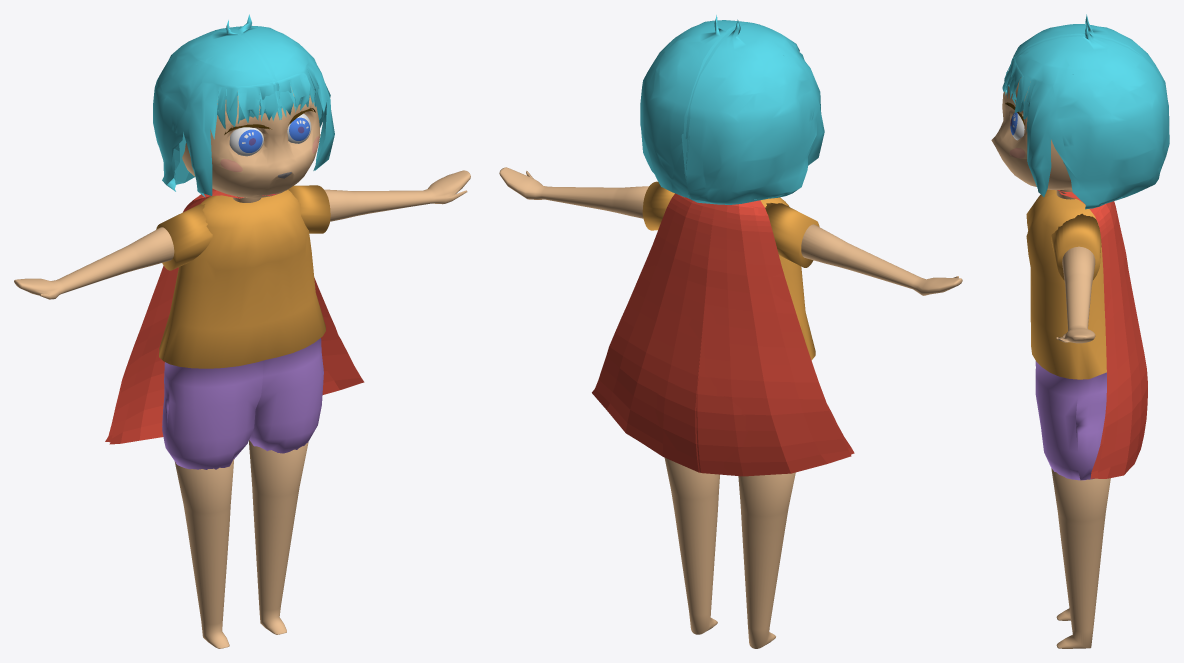
Rendered from Player0605.fbx.
The picture shows the model from 3 angles, left to right: view 1: azimuth 30°, elevation 25°; view 2: azimuth 150°, elevation 25°; view 3: azimuth 270°, elevation 25°; orthographic projection.
Parts seen in each view (by area): view 1: model; view 2: model; view 3: model.
Boxes of the visible parts, x1,y1,x2,y2 form: model: (14, 14, 470, 648); model: (499, 15, 962, 648); model: (991, 14, 1169, 648).
Bounding box in the file's own units: 332 × 431 × 114.
